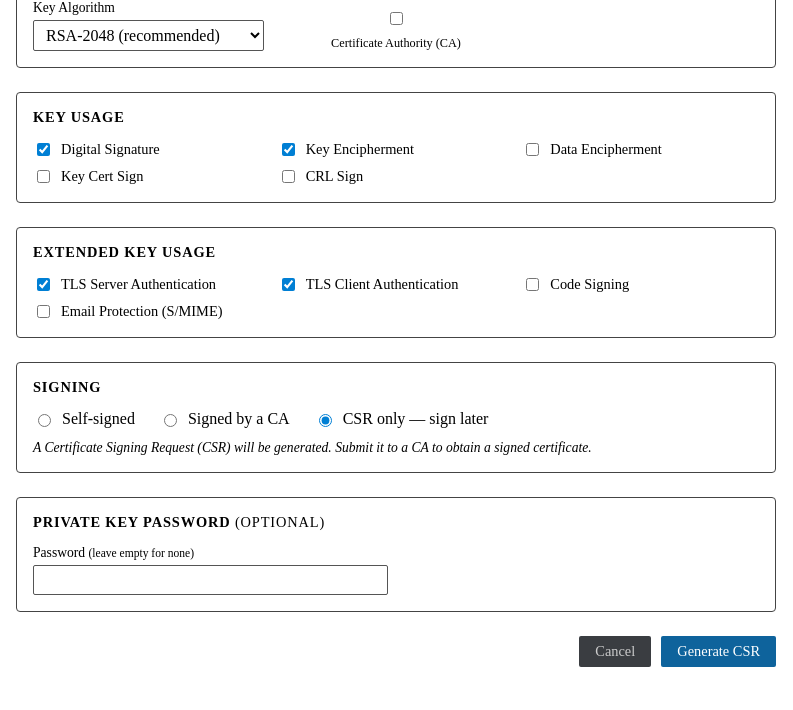
Scenario: CreateCertPanel.svelte › validates mismatched P12 passwords in certificate mode
This screenshot has width=793, height=710.
(page scrolled)
Click the radio button with test id "create-cert-signing-self".
click(44, 420)  # box [38, 414, 51, 427]
(page scrolled)
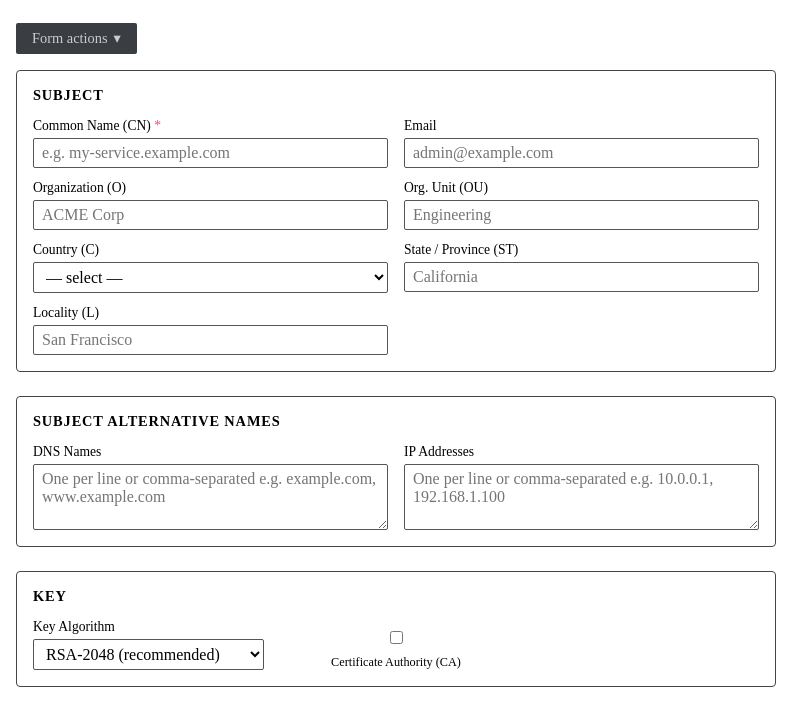
Type "cert.example.test" into the field with test id "create-cert-cn".
click(210, 153); type("cert.example.test")  # box [33, 138, 388, 168]
(page scrolled)
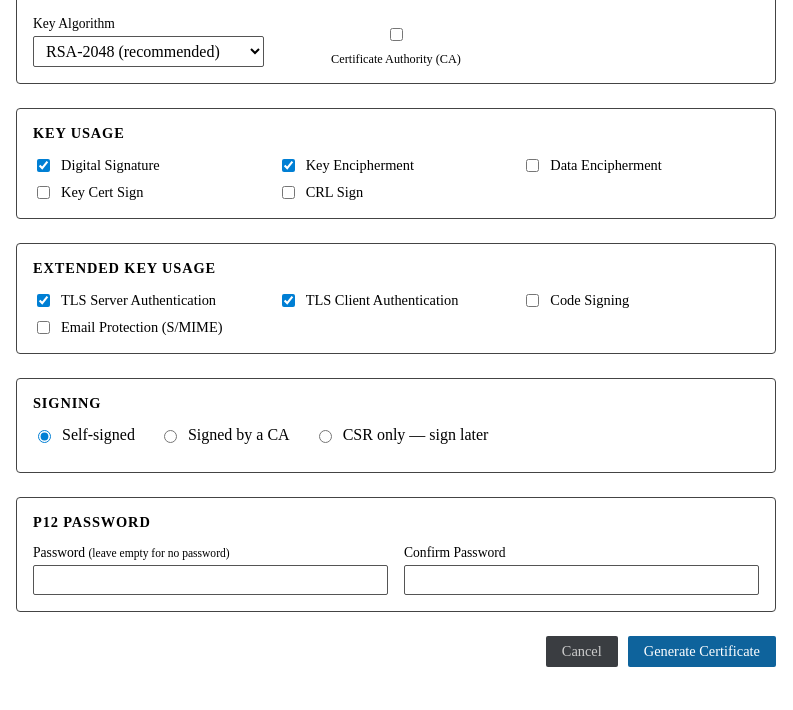
Type "pass-a" into the password field with test id "create-cert-p12-password".
click(210, 580); type("pass-a")  # box [33, 565, 388, 595]
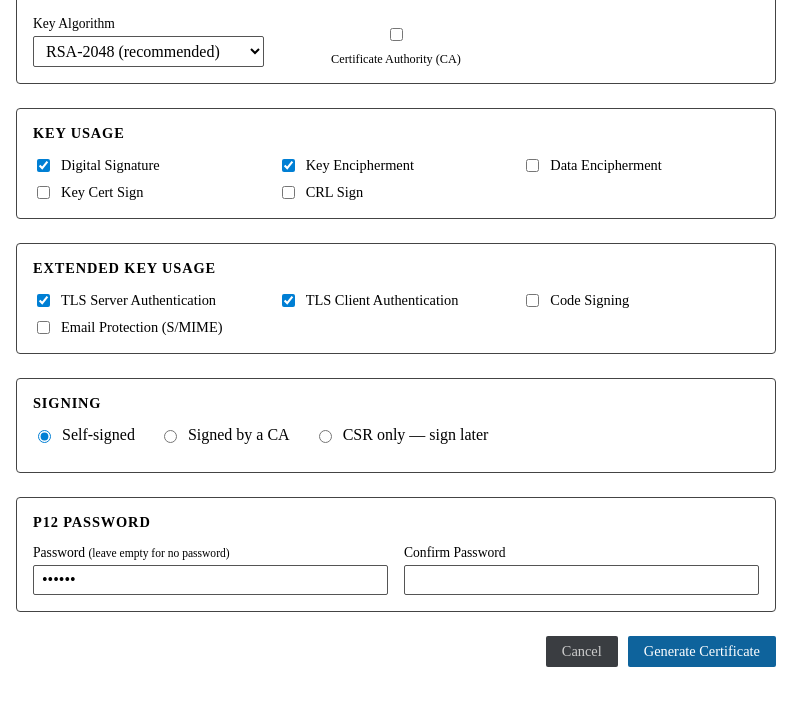
Type "pass-b" into the password field with test id "create-cert-p12-password-confirm".
click(582, 580); type("pass-b")  # box [404, 565, 759, 595]
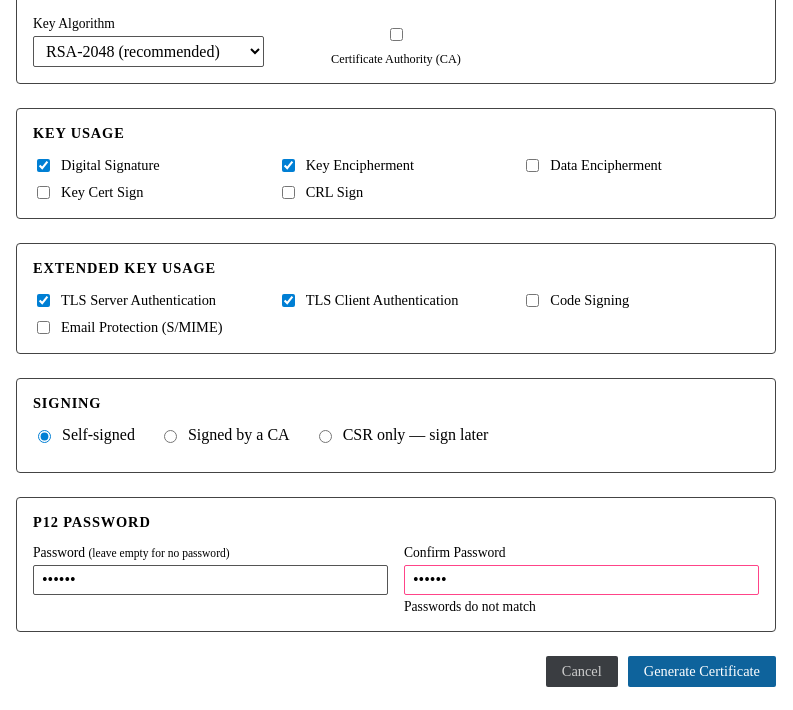
Click the button with test id "create-cert-generate".
click(702, 672)  # box [628, 656, 776, 687]
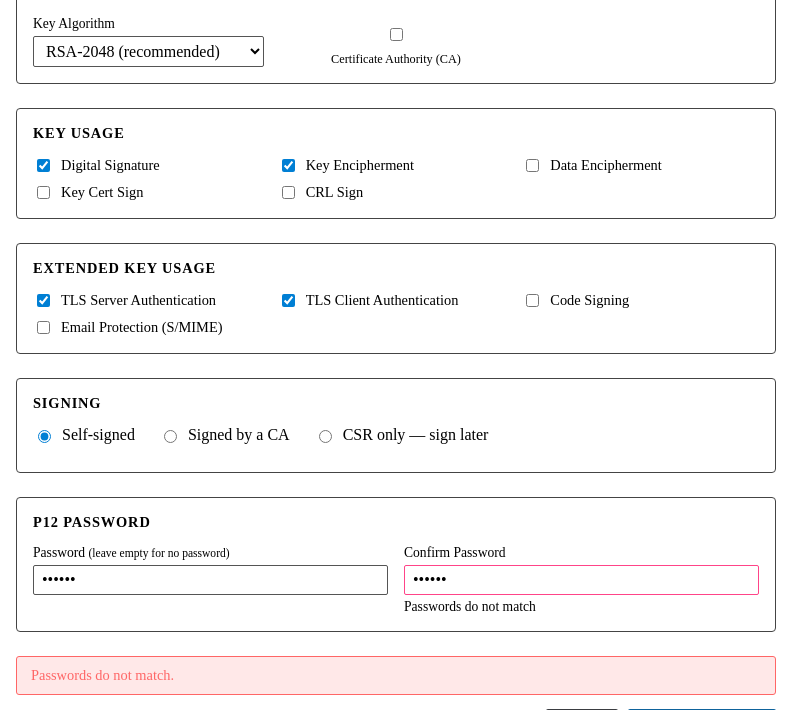
Expected: the text "Passwords do not match." is shown, [16, 656, 776, 695]
